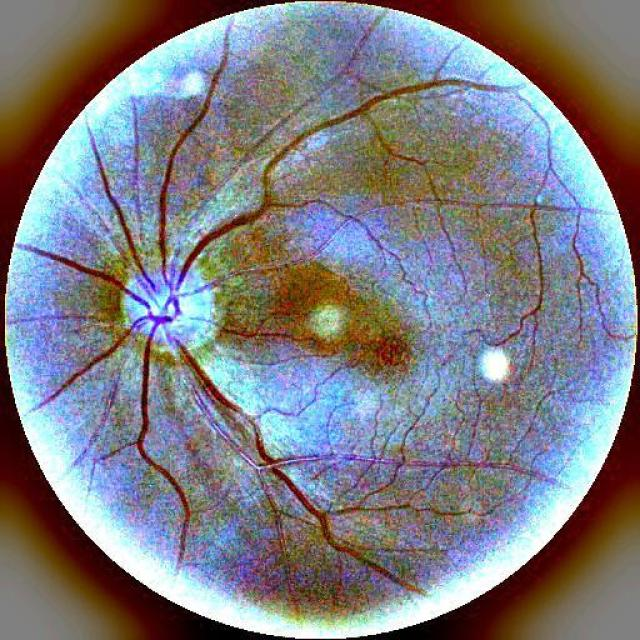Macula: (326, 292, 418, 375)
Nerves: (129, 153, 285, 564)
Optic Disk: (91, 229, 229, 377)
